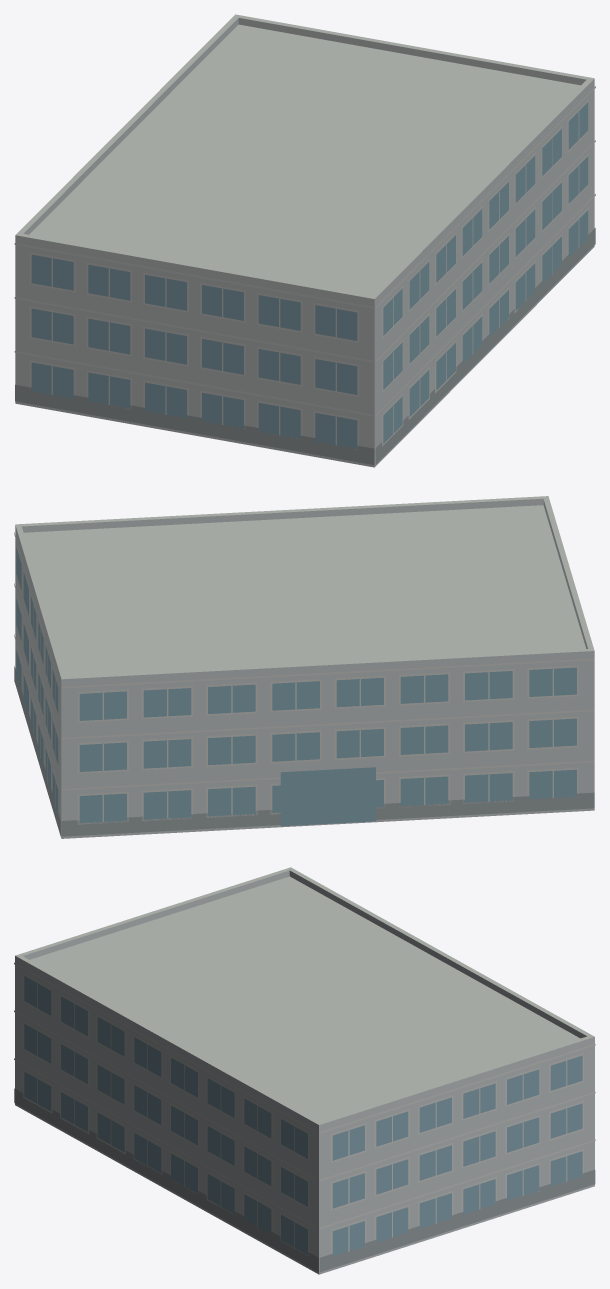
The model's file is public-fcd50f95-0b7f-4aa4-ba44-e0d813d1c132.glb.
3 renders of one model, top to bottom at view 1: azimuth 30°, elevation 25°; view 2: azimuth 150°, elevation 25°; view 3: azimuth 270°, elevation 25°, orthographic. The views are drawn at different scales.
Visible parts, largest first — view 1: public-fcd50f95-0b7f-4aa4-ba44-e0d813d1c132; view 2: public-fcd50f95-0b7f-4aa4-ba44-e0d813d1c132; view 3: public-fcd50f95-0b7f-4aa4-ba44-e0d813d1c132.
Part boxes in pixels (x1=…): public-fcd50f95-0b7f-4aa4-ba44-e0d813d1c132: x1=14, y1=14, x2=595, y2=467; public-fcd50f95-0b7f-4aa4-ba44-e0d813d1c132: x1=14, y1=496, x2=594, y2=838; public-fcd50f95-0b7f-4aa4-ba44-e0d813d1c132: x1=14, y1=867, x2=595, y2=1274.
Bounding box in the file's own units: 33.95 × 9.15 × 32.27.
